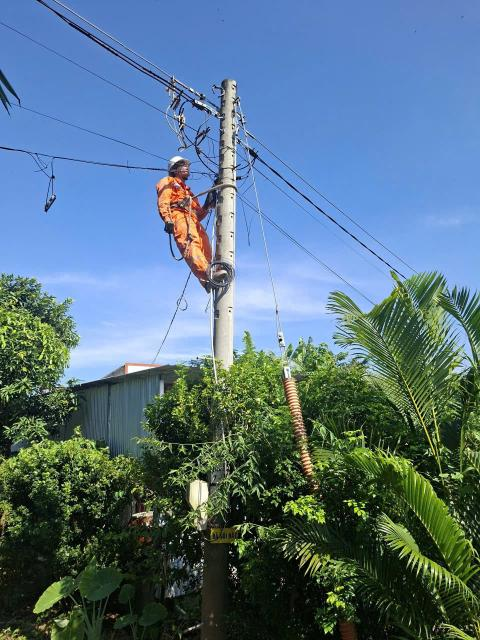gloves: (160, 217, 177, 234)
harness: (162, 200, 201, 216)
helmet: (161, 152, 194, 173)
shoes: (194, 272, 234, 291)
